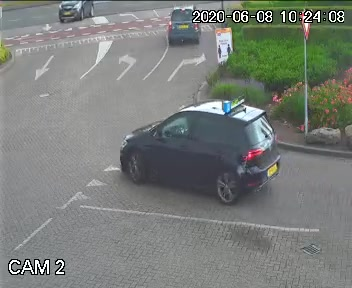car: (118, 86, 276, 209), (162, 0, 206, 53), (52, 0, 96, 27)
